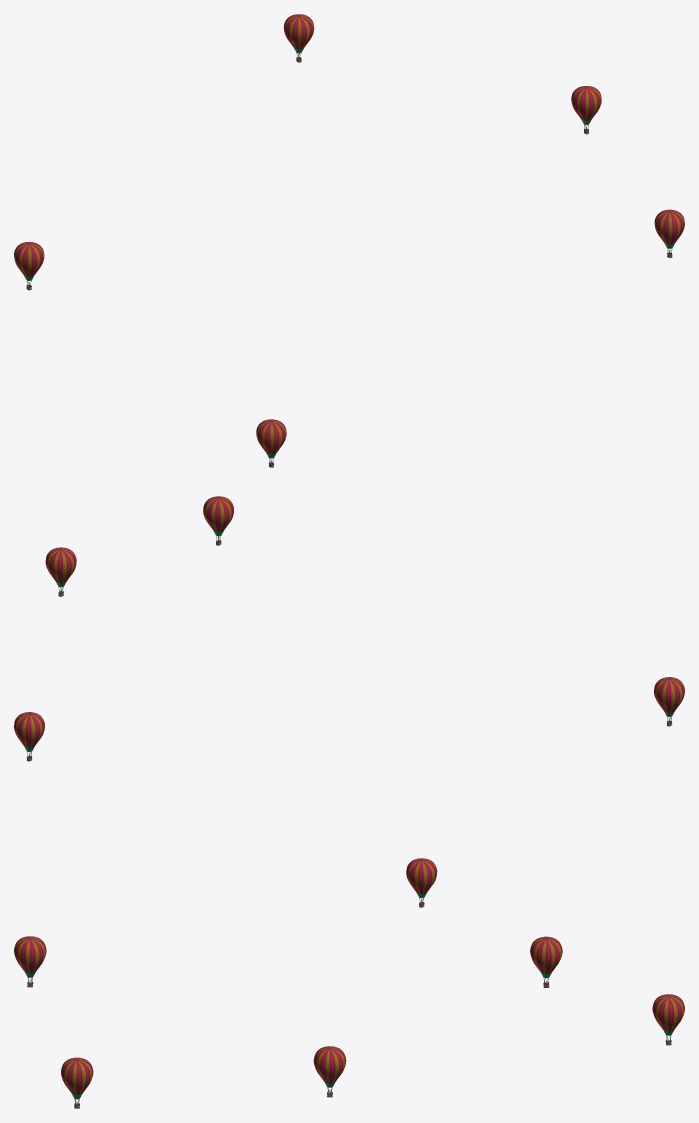
The model's file is Hot Air Balloon.glb.
The picture shows the model from 3 angles, top to bottom: view 1: azimuth 30°, elevation 25°; view 2: azimuth 150°, elevation 25°; view 3: azimuth 270°, elevation 25°; orthographic projection. The views are drawn at different scales.
Parts seen in each view (by area): view 1: Balloon (2), Balloon (4), Balloon (3), Balloon (1), Balloon; view 2: Balloon (1), Balloon (3), Balloon, Balloon (4), Balloon (2); view 3: Balloon, Balloon (3), Balloon (1), Balloon (4), Balloon (2).
Part boxes in pixels (x1,y1,x2,y2): Balloon (2): (654,209,684,257); Balloon (4): (283,14,314,62); Balloon (3): (256,419,286,467); Balloon (1): (571,86,601,134); Balloon: (14,242,44,290); Balloon (1): (45,547,76,596); Balloon (3): (654,677,684,726); Balloon: (406,858,437,907); Balloon (4): (14,712,44,761); Balloon (2): (203,496,233,545); Balloon: (530,936,562,987); Balloon (3): (14,936,46,987); Balloon (1): (313,1046,346,1097); Balloon (4): (652,994,684,1045); Balloon (2): (61,1057,93,1108).
Bounding box in the file's own units: 181 × 59.12 × 205.
1 material, 1 textured.
